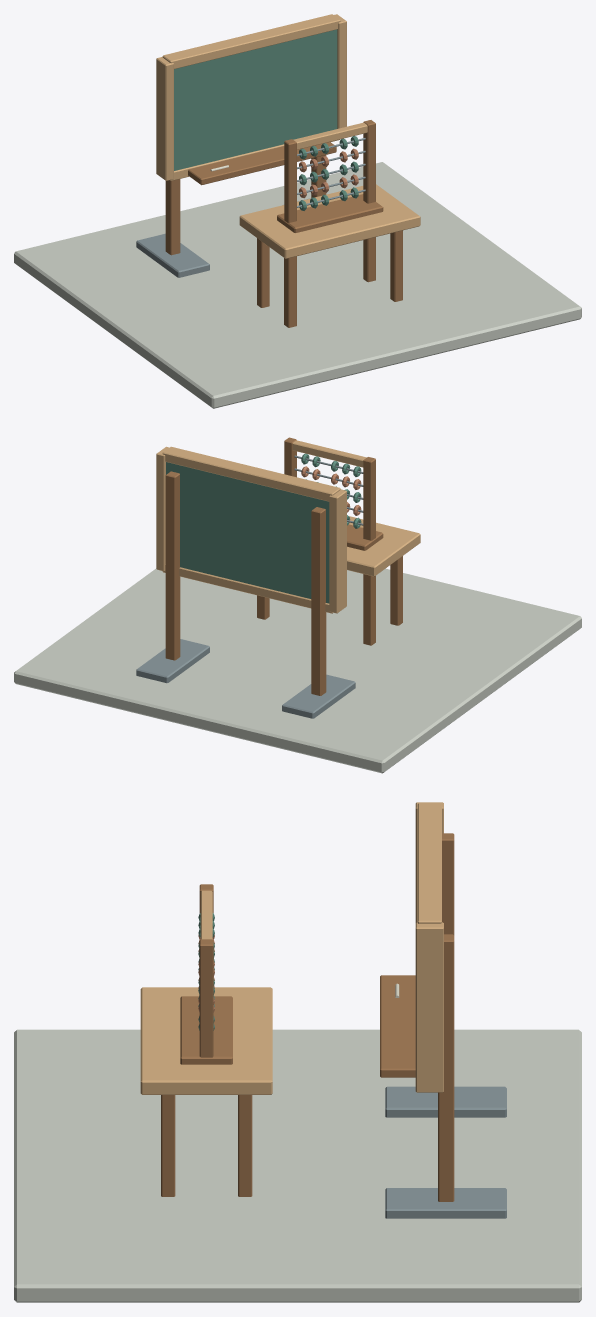
3 views of the same model, one above another, from view 1: azimuth 30°, elevation 25°; view 2: azimuth 150°, elevation 25°; view 3: azimuth 270°, elevation 25° (orthographic). The views are drawn at different scales.
Visible parts, largest first — view 1: education-learning-corner-01; view 2: education-learning-corner-01; view 3: education-learning-corner-01.
Part boxes in pixels (bbox=[...]): education-learning-corner-01: bbox=[14, 14, 581, 408]; education-learning-corner-01: bbox=[14, 437, 581, 773]; education-learning-corner-01: bbox=[14, 802, 581, 1302].
Size of the model in its own units: 3 by 1.71 by 2.8.
